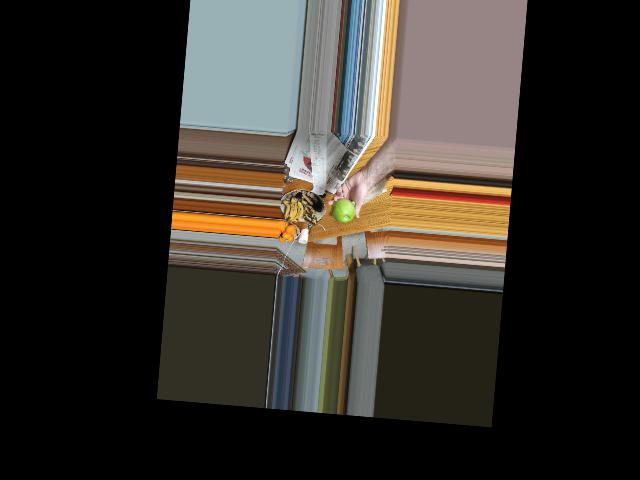apple: (330, 196, 355, 224)
